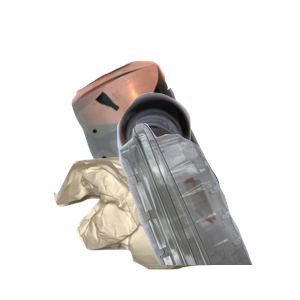glass: (115, 90, 300, 270)
metal: (69, 58, 300, 238)
plastic: (71, 120, 300, 300)
trash: (51, 155, 261, 300)
